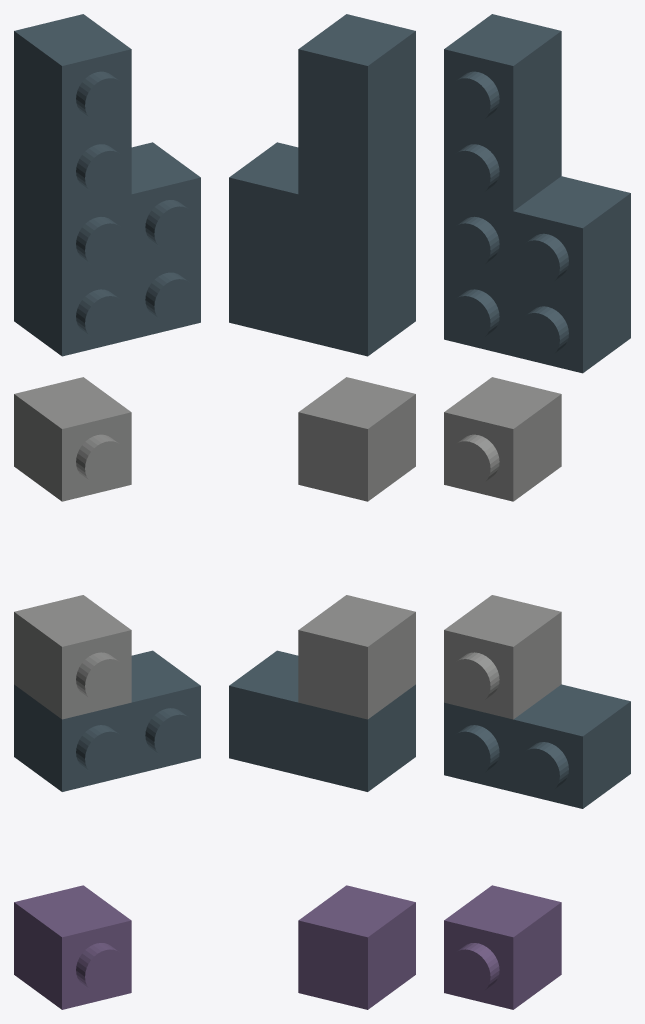
File: current.glb
3 renders of one model, left to right at view 1: azimuth 30°, elevation 25°; view 2: azimuth 150°, elevation 25°; view 3: azimuth 330°, elevation 25°, orthographic.
Visible parts, largest first — view 1: world; view 2: world; view 3: world.
Boxes of the visible parts, x1=… form: world: x1=14, y1=14, x2=200, y2=1009; world: x1=229, y1=14, x2=415, y2=1009; world: x1=444, y1=14, x2=630, y2=1009.
Size of the model in its own units: 16 by 104 by 11.4.
